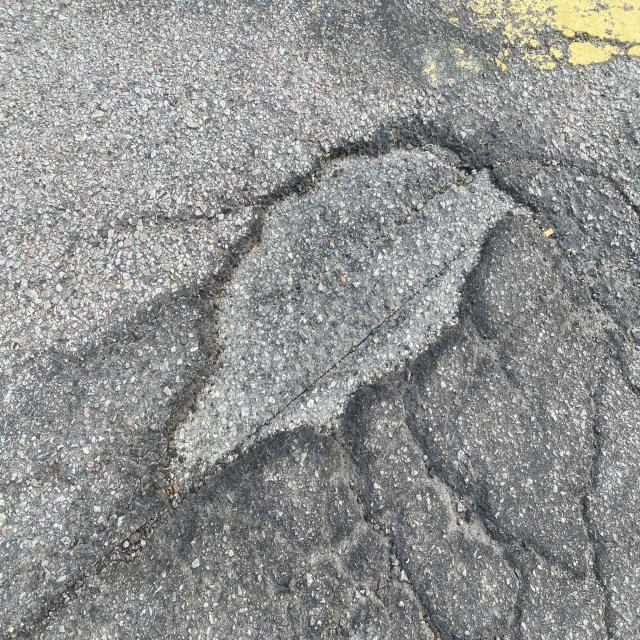pothole: (141, 86, 561, 526)
